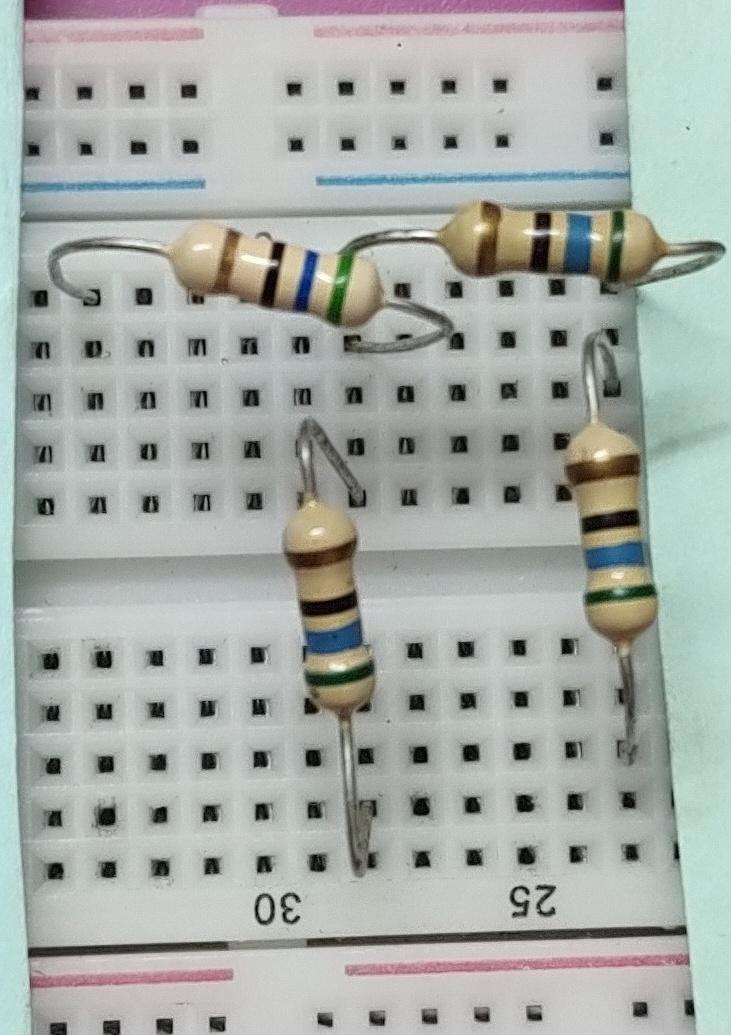resistor: (157, 205, 393, 333), (271, 494, 393, 736), (549, 411, 666, 646), (427, 197, 675, 290)
